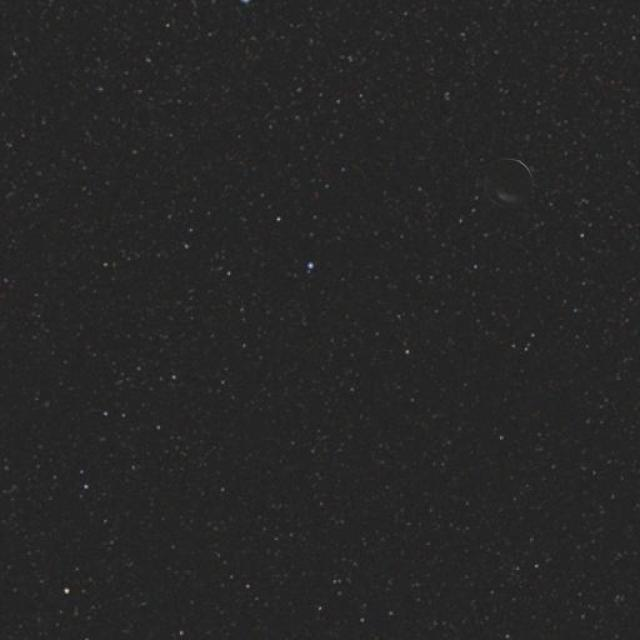debris: (476, 154, 544, 214)
